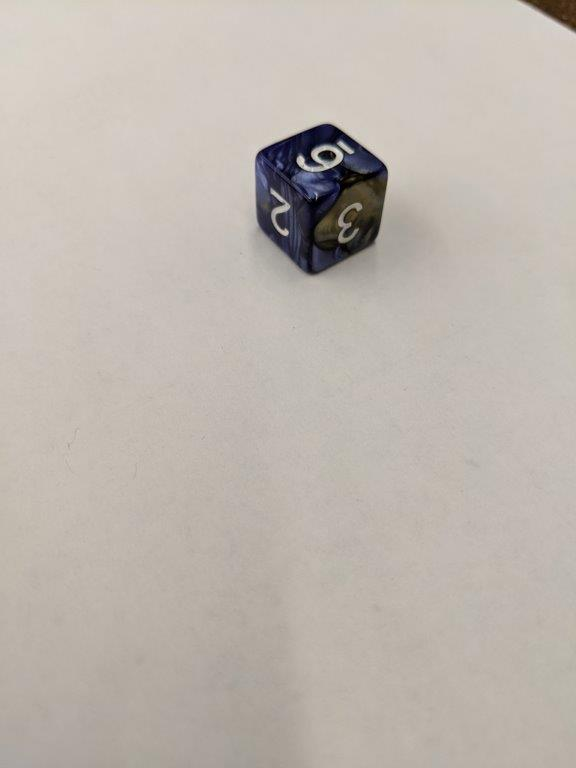d6-6: (252, 125, 388, 272)
